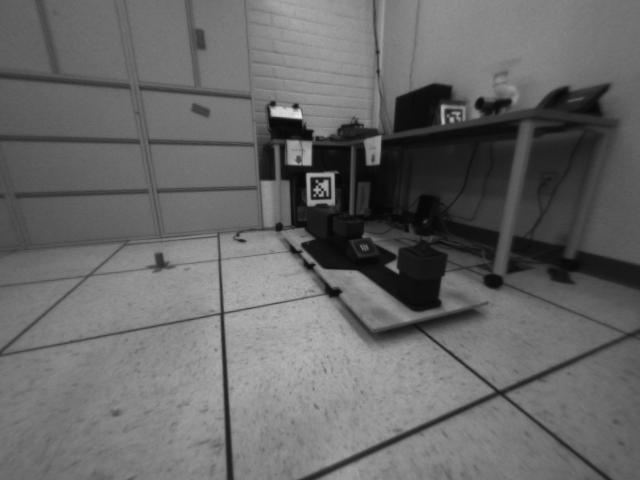X: (144, 250, 175, 274)
